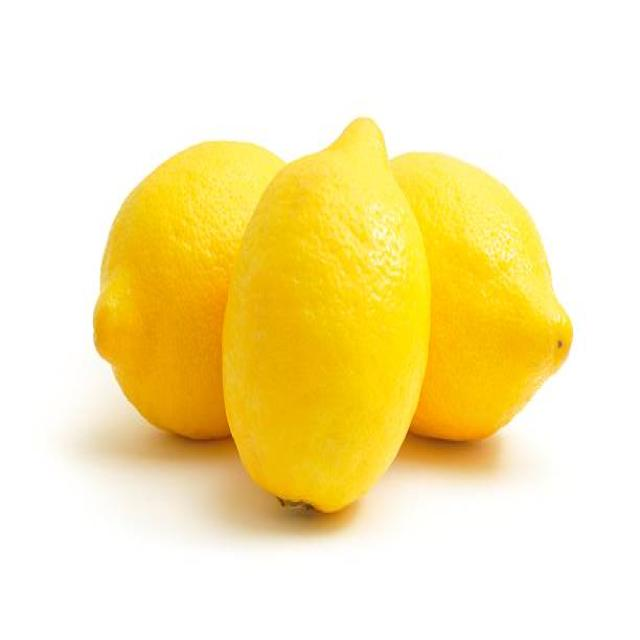Ripe: (216, 118, 435, 523), (392, 141, 575, 450), (89, 131, 229, 448)
